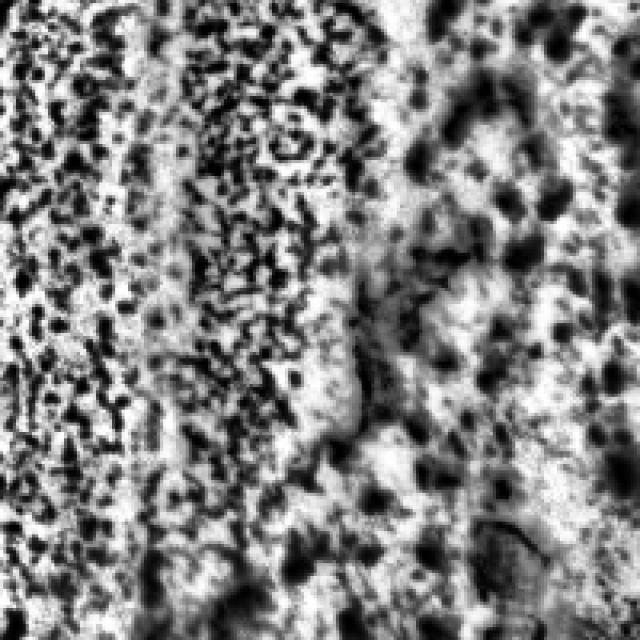Rolled_in_Scale: (0, 0, 342, 579), (333, 0, 637, 512)
Scratches: (314, 233, 464, 454), (451, 515, 547, 634)
